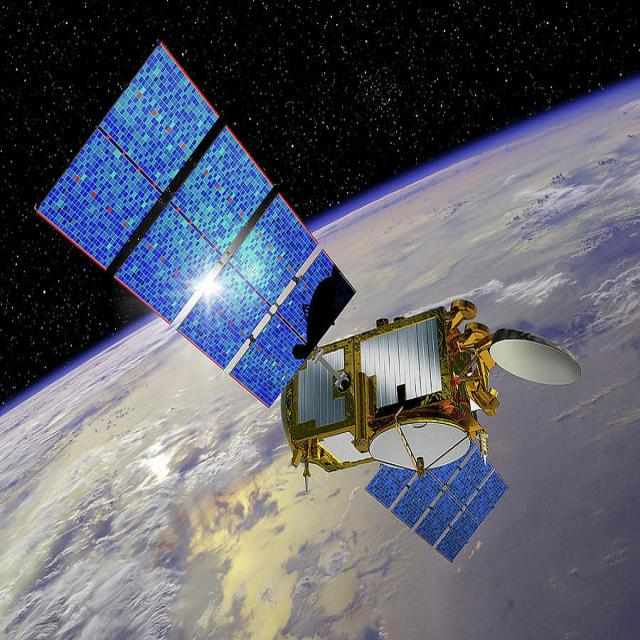satellite: (26, 26, 598, 568)
